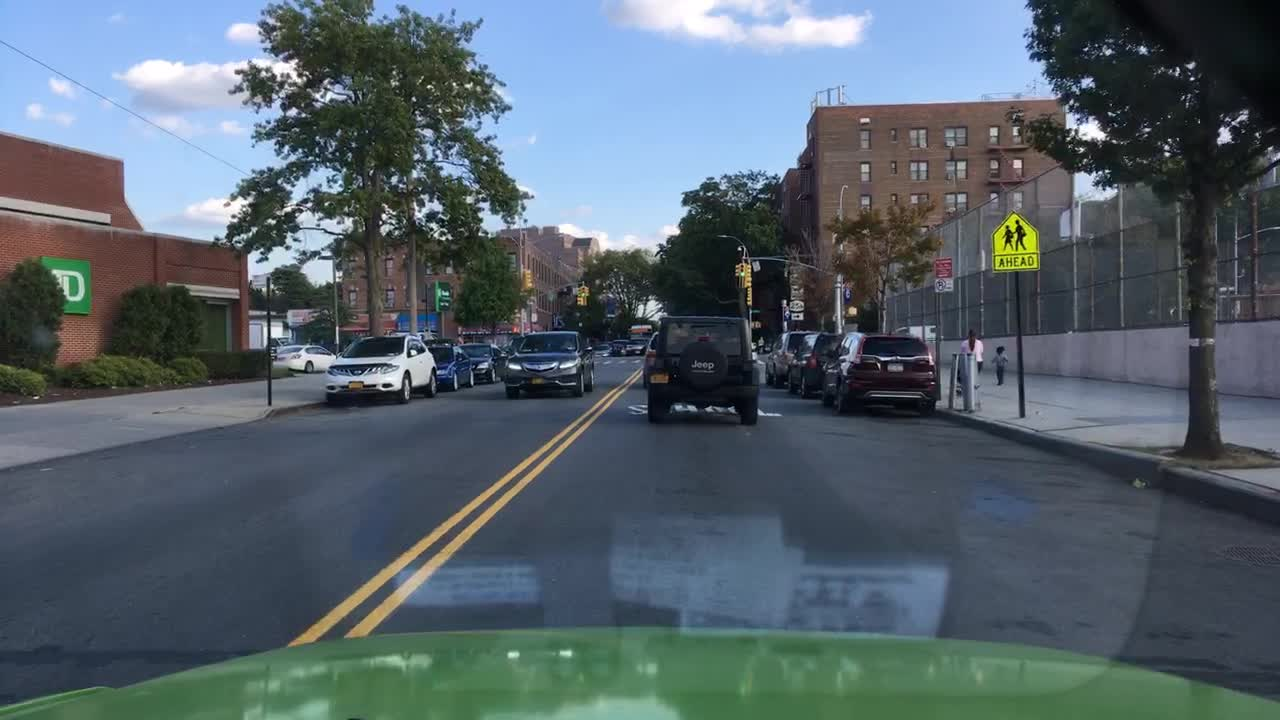car: (644, 314, 764, 427), (818, 326, 940, 418), (322, 329, 437, 408), (501, 329, 595, 400), (778, 327, 842, 395), (762, 327, 813, 386), (422, 339, 476, 391), (270, 344, 330, 374), (462, 341, 504, 383), (639, 332, 660, 374), (607, 334, 627, 356), (592, 344, 611, 359)
person: (955, 320, 984, 376), (987, 341, 1009, 386)
traffic light: (521, 265, 535, 290), (843, 305, 857, 319), (575, 282, 582, 309), (742, 260, 752, 278), (746, 285, 754, 307), (732, 260, 739, 280), (739, 260, 746, 278), (579, 283, 587, 297)
traffic sign: (992, 214, 1036, 272), (931, 260, 955, 293), (786, 273, 806, 300), (788, 300, 801, 312), (788, 312, 805, 320)
truck: (624, 322, 654, 356)
